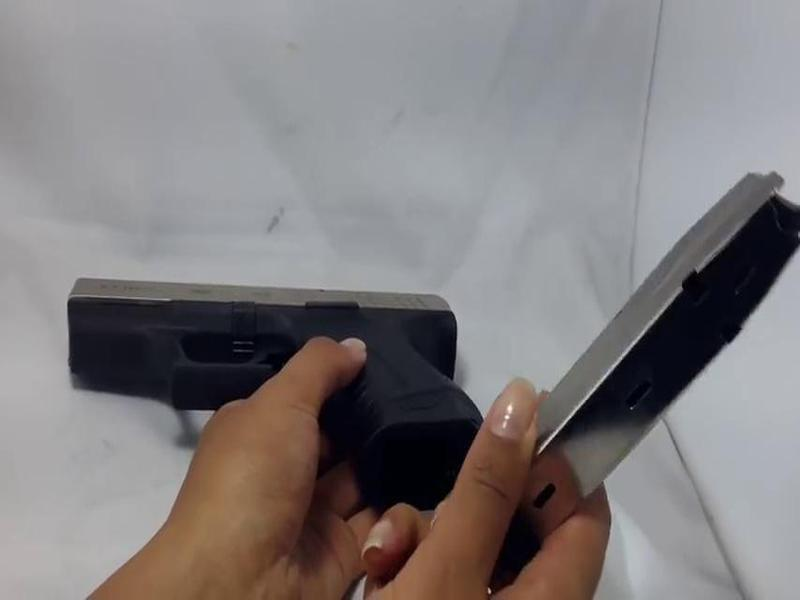Pistola: (53, 244, 483, 518)
